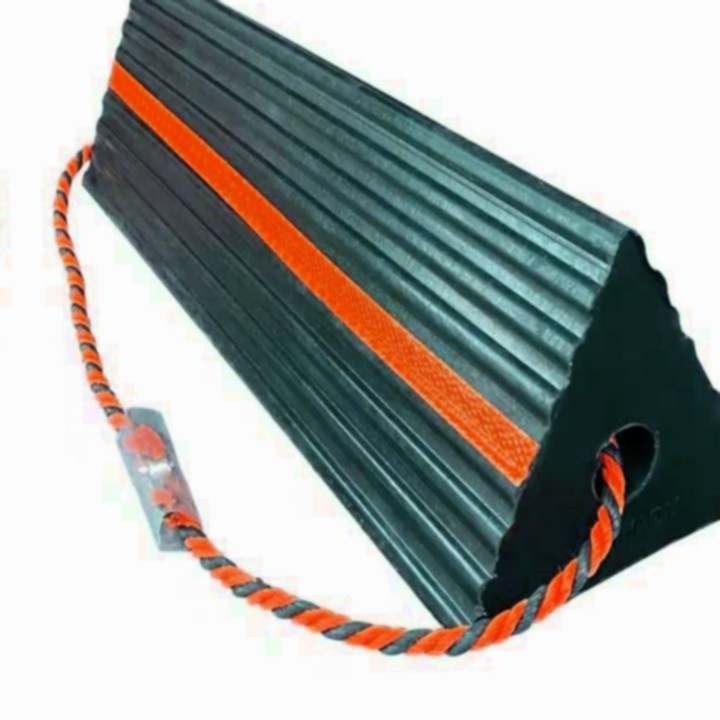chock: (71, 0, 720, 665)
